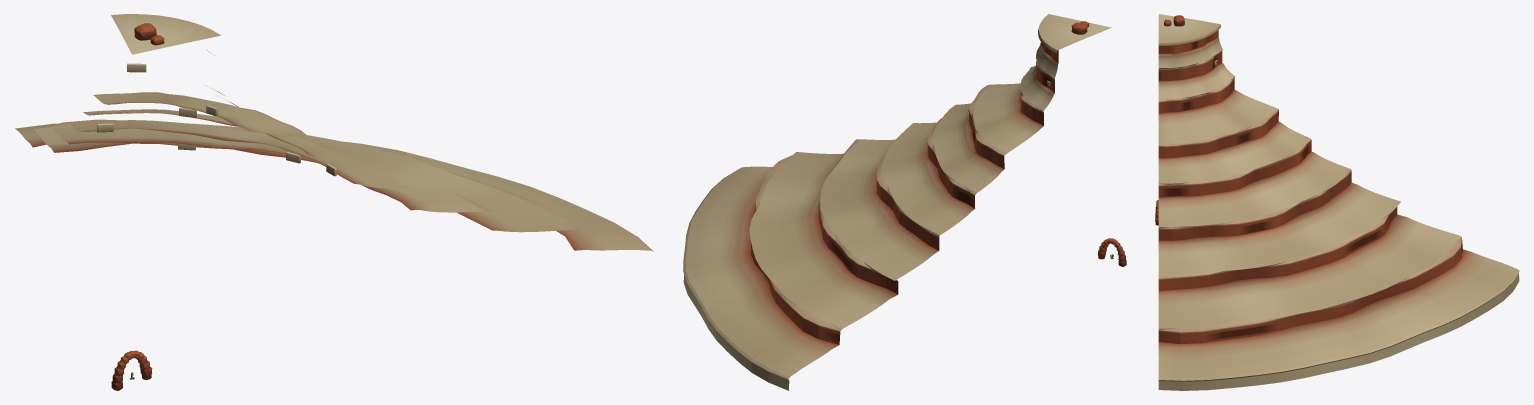
The model's file is canyon-s5-C00znJ4x.glb.
The picture shows the model from 3 angles, left to right: view 1: azimuth 30°, elevation 25°; view 2: azimuth 150°, elevation 25°; view 3: azimuth 270°, elevation 25°; orthographic projection. The views are drawn at different scales.
Visible parts, largest first — view 1: sc_landmark_0, sc_arch; view 2: sc_landmark_0, sc_arch; view 3: sc_landmark_0.
Part boxes in pixels (x1=…): sc_landmark_0: x1=15, y1=14, x2=653, y2=251; sc_arch: x1=111, y1=350, x2=152, y2=390; sc_landmark_0: x1=683, y1=14, x2=1111, y2=390; sc_arch: x1=1097, y1=238, x2=1126, y2=266; sc_landmark_0: x1=1158, y1=14, x2=1519, y2=390.
Bounding box in the file's own units: 446 × 275 × 410.
